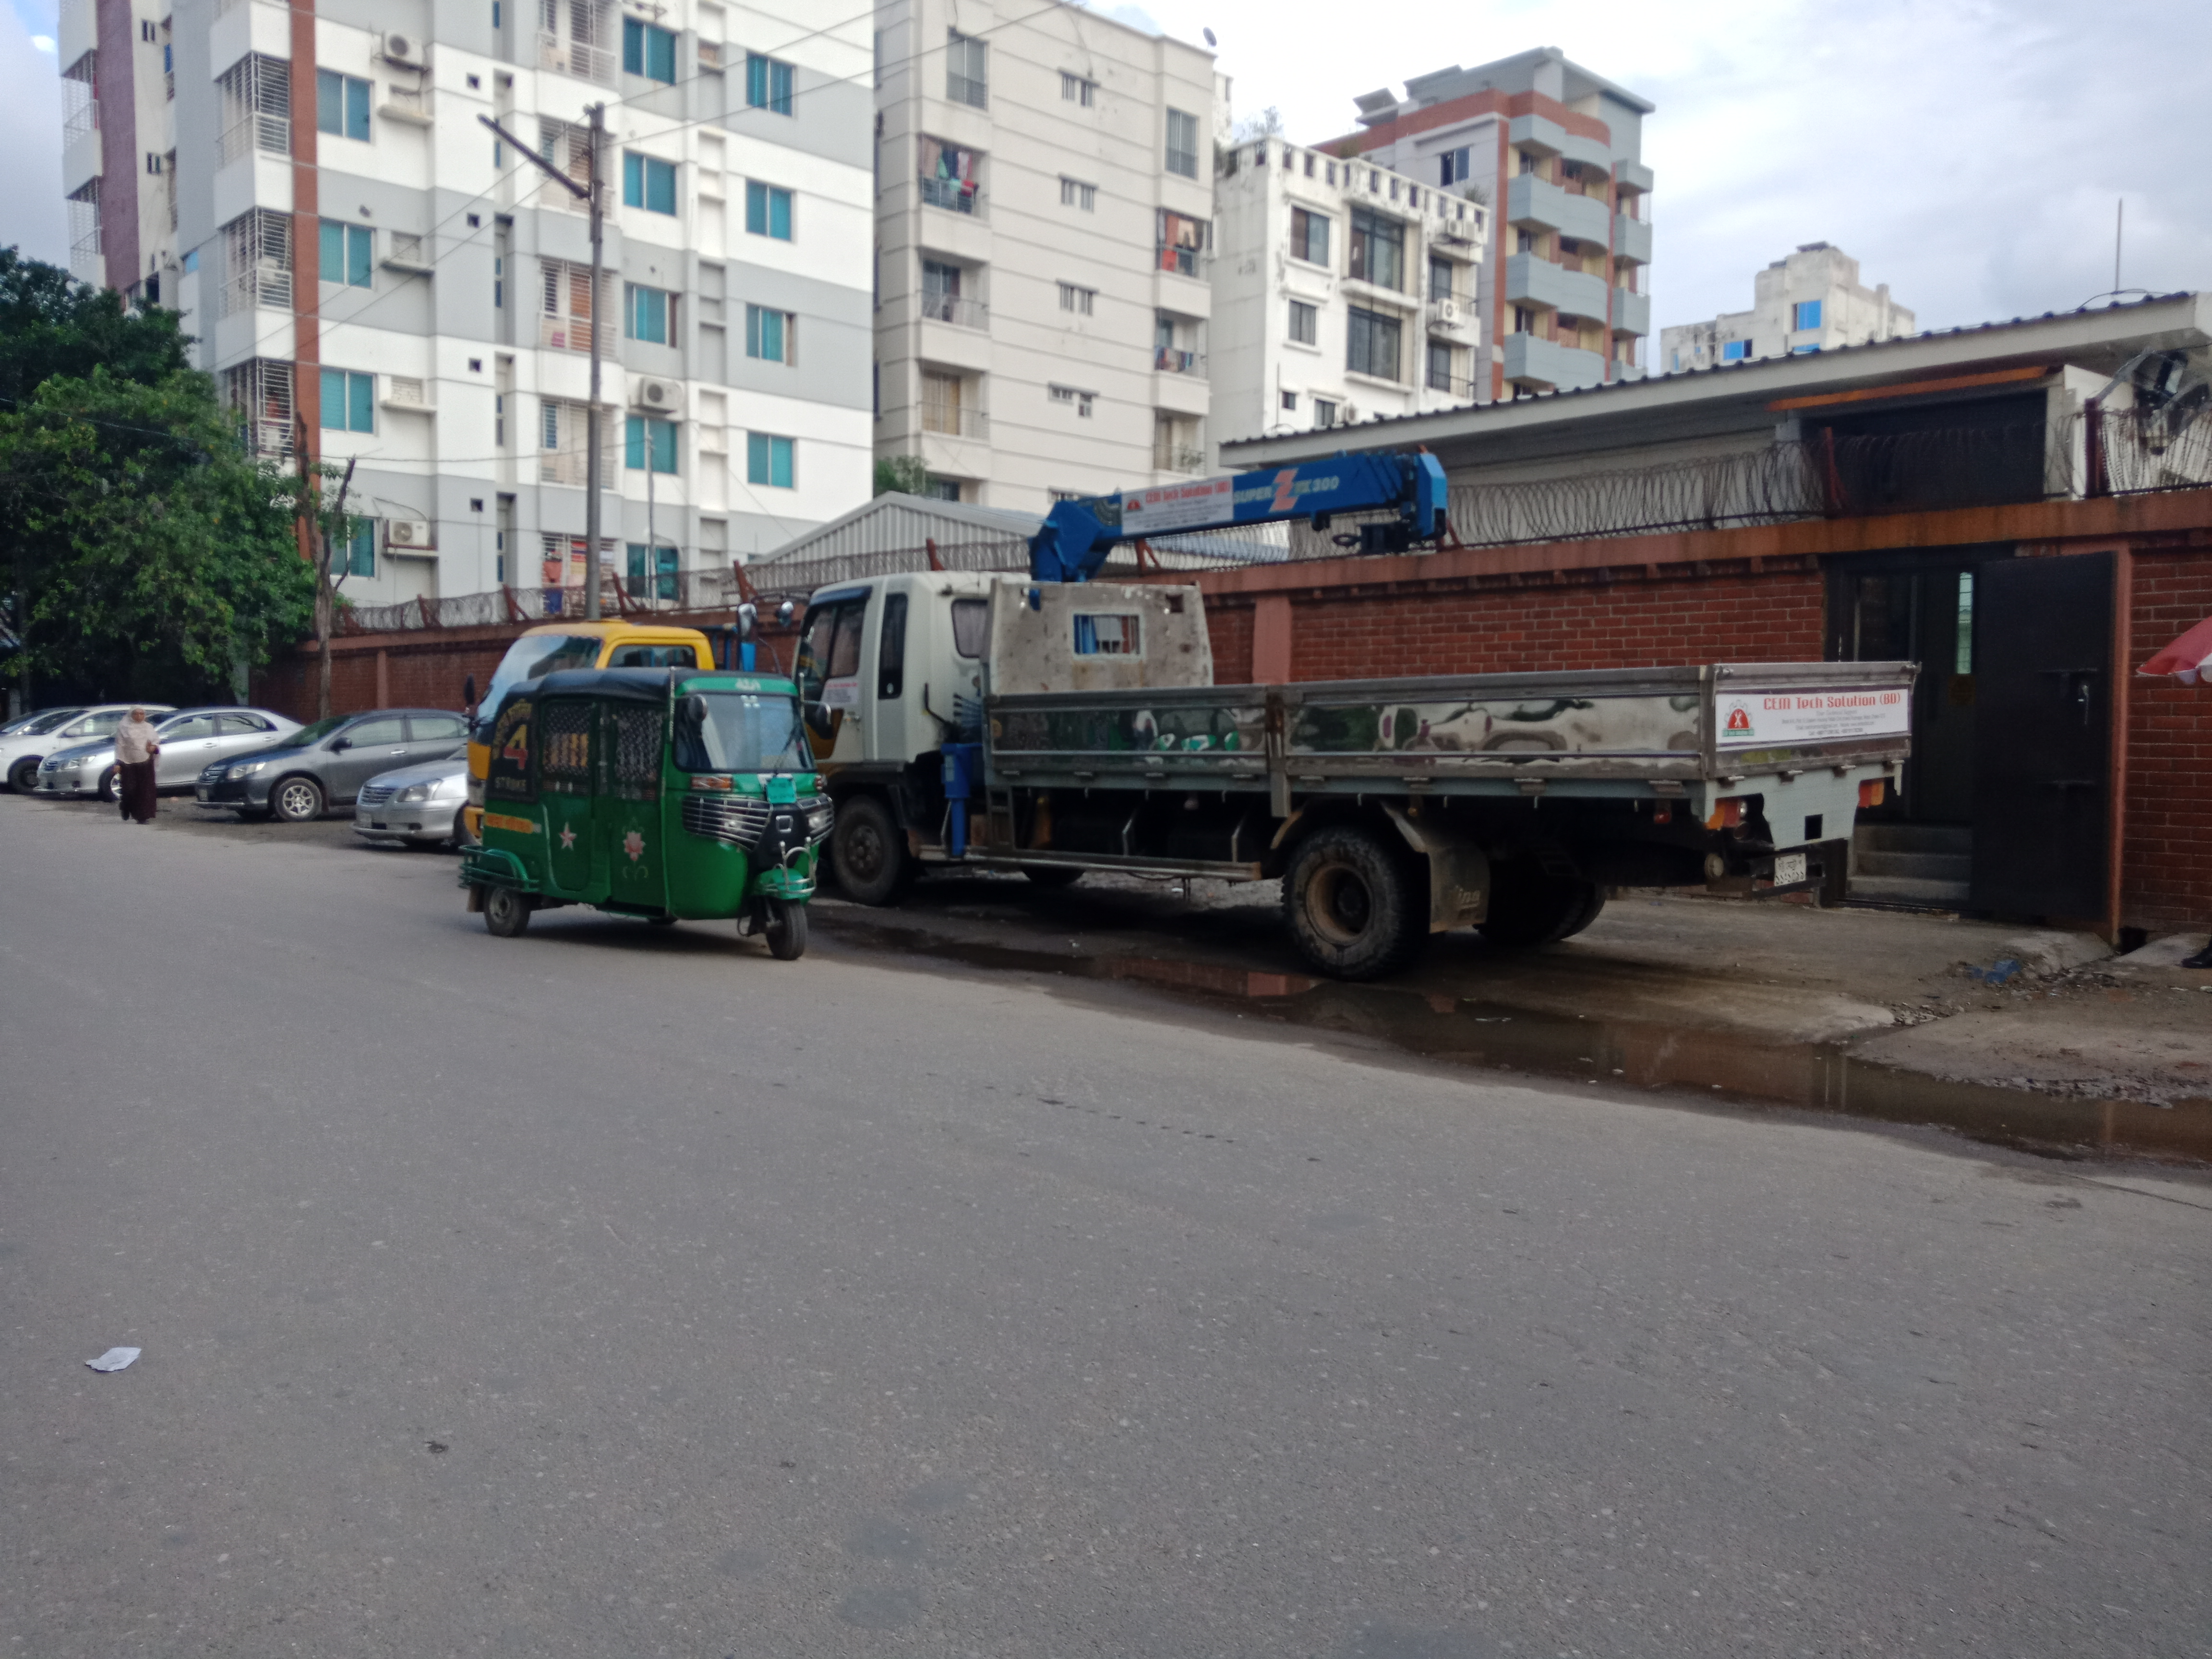car: (193, 697, 474, 814), (37, 706, 305, 798), (3, 680, 171, 803), (359, 755, 474, 849)
cng: (462, 659, 836, 964)
truck: (803, 451, 1932, 985), (477, 613, 792, 692)
